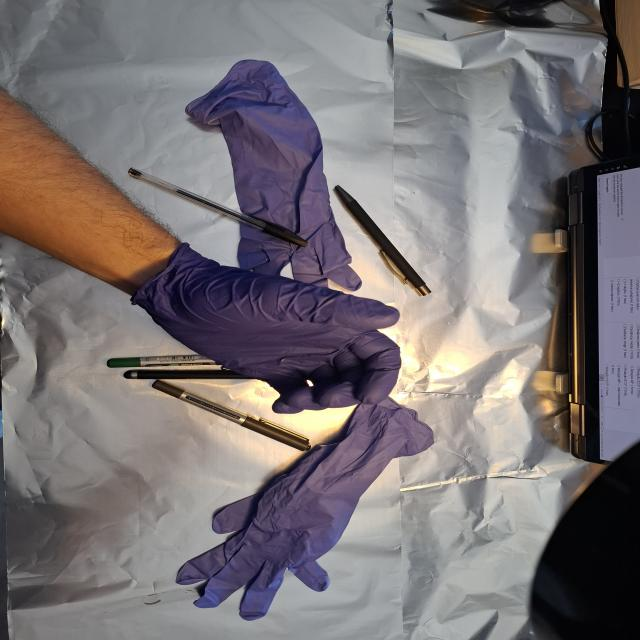glove_on: (138, 254, 407, 417)
